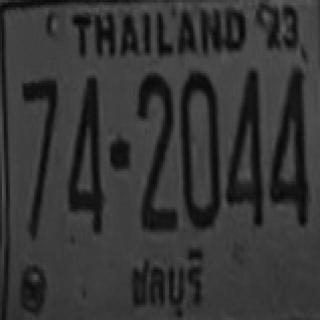N04: (268, 66, 308, 224), (225, 67, 262, 226), (66, 79, 103, 233)
N07: (21, 77, 57, 170)
P13: (123, 245, 210, 320)
